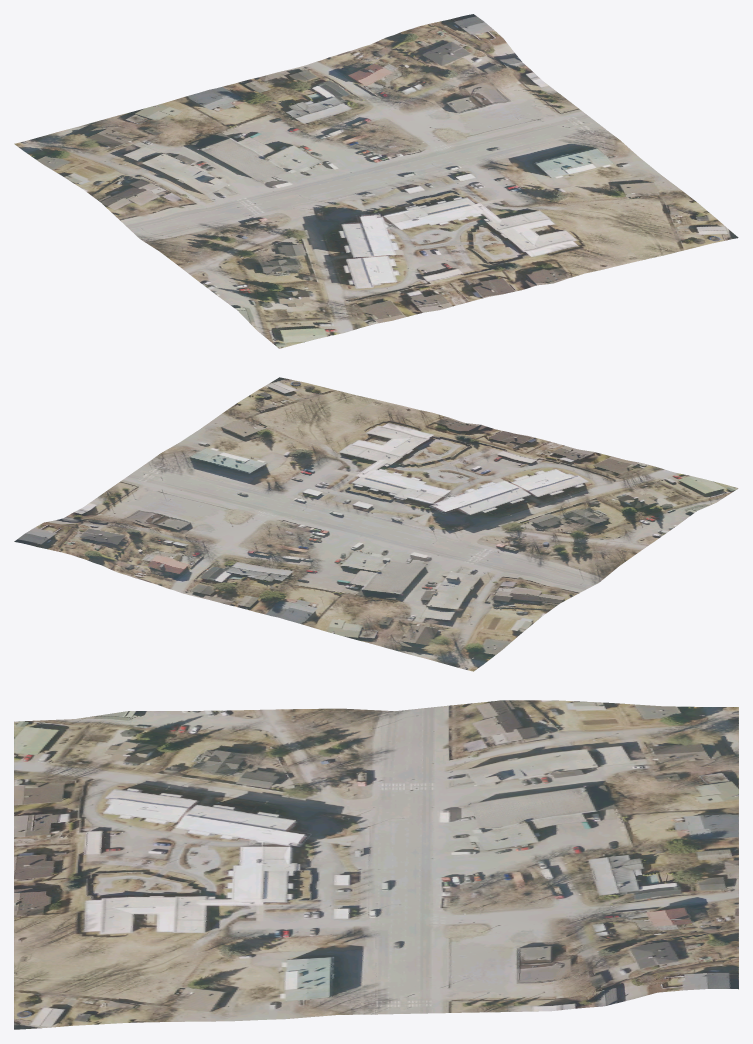
File: CM_Terrain_24491073_6819589.fbx
3 views of the same model, one above another, from view 1: azimuth 30°, elevation 25°; view 2: azimuth 150°, elevation 25°; view 3: azimuth 270°, elevation 25° (orthographic). The views are drawn at different scales.
Parts seen in each view (by area): view 1: CM_Terrain_24491073_6819589_LOD0; view 2: CM_Terrain_24491073_6819589_LOD0; view 3: CM_Terrain_24491073_6819589_LOD0.
Boxes of the visible parts, x1,y1,x2,y2 form: CM_Terrain_24491073_6819589_LOD0: [14, 14, 738, 348]; CM_Terrain_24491073_6819589_LOD0: [14, 377, 738, 671]; CM_Terrain_24491073_6819589_LOD0: [14, 700, 738, 1029].
Size of what is drawn, in the model's own units: 205 by 13.2 by 205.
